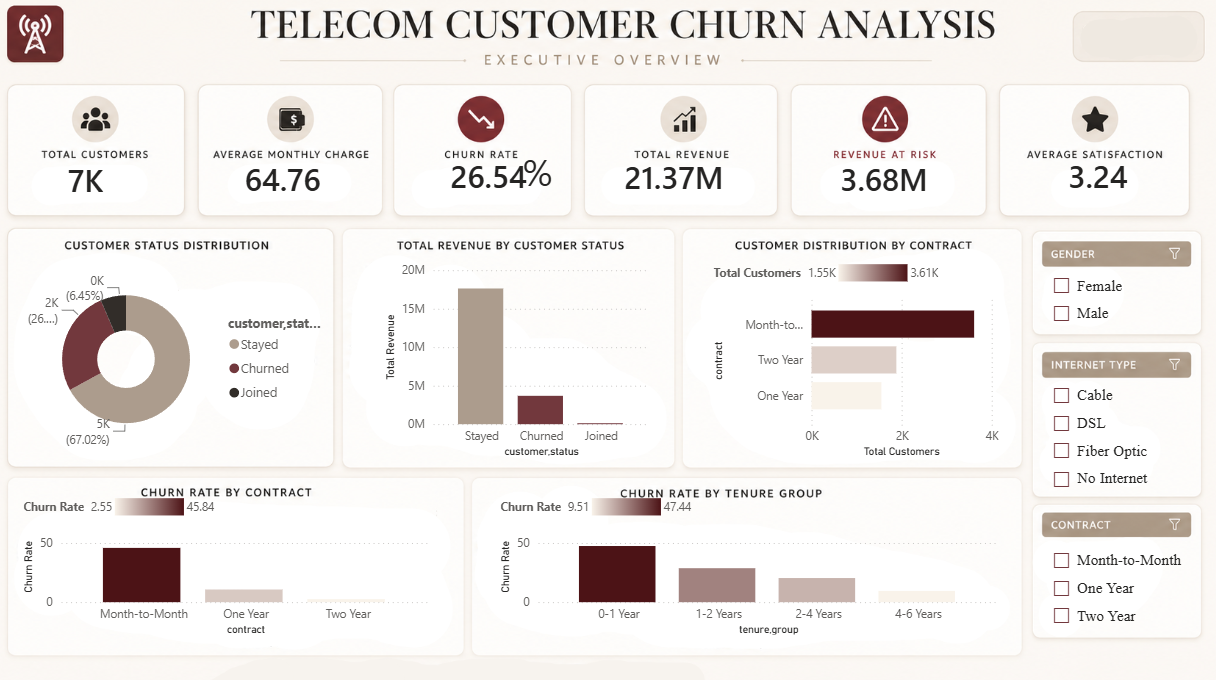

Layout of this report page (visuals, bound fields, positions):
{"tool":"powerbi","page":{"name":"Page 1","canvas":[1280,720],"ordinal":0},"visuals":[{"type":"cardVisual","fields":{"Data":["telecom_churn_new_sql.Total Customers"]},"box":[61.7,155,103.3,75],"z":0},{"type":"cardVisual","fields":{"Data":["telecom_churn_new_sql.Churn Rate"]},"box":[460,151.7,120,73.3],"z":1000},{"type":"cardVisual","fields":{"Data":["telecom_churn_new_sql.Total Revenue"]},"box":[640,151.7,158.3,75],"z":2000},{"type":"cardVisual","fields":{"Data":["telecom_churn_new_sql.Revenue at Risk"]},"box":[865,155,165,73.3],"z":3000},{"type":"cardVisual","fields":{"Data":["telecom_churn_new_sql.Average Satisfaction"]},"box":[1103.3,150,96.7,75],"z":4000},{"type":"cardVisual","fields":{"Data":["Avg(telecom_churn_new_sql.monthly,charge)"]},"box":[245,153.3,125,75],"z":5000},{"type":"donutChart","fields":{"Category":["telecom_churn_new_sql.customer,status"],"Y":["telecom_churn_new_sql.Total Customers"]},"box":[26.7,273.3,323.3,213.3],"z":6000},{"type":"clusteredColumnChart","fields":{"Category":["telecom_churn_new_sql.customer,status"],"Y":["telecom_churn_new_sql.Total Revenue"]},"box":[403.3,273.3,285,213.3],"z":7000},{"type":"clusteredBarChart","fields":{"Category":["telecom_churn_new_sql.contract"],"Y":["telecom_churn_new_sql.Total Customers"]},"box":[745,273.3,306.7,213.3],"z":8000},{"type":"clusteredColumnChart","fields":{"Y":["telecom_churn_new_sql.Churn Rate"],"Category":["telecom_churn_new_sql.contract"]},"box":[26.7,516.7,433.3,155],"z":9000},{"type":"slicer","fields":{"Values":["telecom_churn_new_sql.internet,type"]},"box":[1091.8,399.1,158.2,134.5],"z":10000},{"type":"slicer","fields":{"Values":["telecom_churn_new_sql.gender"]},"box":[1091.7,285,158.3,75],"z":11000},{"type":"slicer","fields":{"Values":["telecom_churn_new_sql.contract"]},"box":[1092,571,158,100],"z":12000},{"type":"clusteredColumnChart","fields":{"Category":["telecom_churn_new_sql.tenure,group"],"Y":["telecom_churn_new_sql.Churn Rate"]},"box":[523.3,516.7,528.3,155],"z":13000},{"type":"textbox","box":[546.7,155,53.3,70],"z":14000}]}

Visuals, with their boxes in screenshot pixels (x1, y1, x2, y2), scaled from the page's 1280x720 canvas onto the 1216x680 screenshot:
cardVisual - telecom_churn_new_sql.Total Customers: <bbox>59, 146, 157, 217</bbox>
cardVisual - telecom_churn_new_sql.Churn Rate: <bbox>437, 143, 551, 212</bbox>
cardVisual - telecom_churn_new_sql.Total Revenue: <bbox>608, 143, 758, 214</bbox>
cardVisual - telecom_churn_new_sql.Revenue at Risk: <bbox>822, 146, 978, 216</bbox>
cardVisual - telecom_churn_new_sql.Average Satisfaction: <bbox>1048, 142, 1140, 212</bbox>
cardVisual - Avg(telecom_churn_new_sql.monthly,charge): <bbox>233, 145, 352, 216</bbox>
donutChart - telecom_churn_new_sql.customer,status x telecom_churn_new_sql.Total Customers: <bbox>25, 258, 332, 460</bbox>
clusteredColumnChart - telecom_churn_new_sql.customer,status x telecom_churn_new_sql.Total Revenue: <bbox>383, 258, 654, 460</bbox>
clusteredBarChart - telecom_churn_new_sql.contract x telecom_churn_new_sql.Total Customers: <bbox>708, 258, 999, 460</bbox>
clusteredColumnChart - telecom_churn_new_sql.Churn Rate x telecom_churn_new_sql.contract: <bbox>25, 488, 437, 634</bbox>
slicer - telecom_churn_new_sql.internet,type: <bbox>1037, 377, 1188, 504</bbox>
slicer - telecom_churn_new_sql.gender: <bbox>1037, 269, 1188, 340</bbox>
slicer - telecom_churn_new_sql.contract: <bbox>1037, 539, 1188, 634</bbox>
clusteredColumnChart - telecom_churn_new_sql.tenure,group x telecom_churn_new_sql.Churn Rate: <bbox>497, 488, 999, 634</bbox>
textbox: <bbox>519, 146, 570, 212</bbox>
